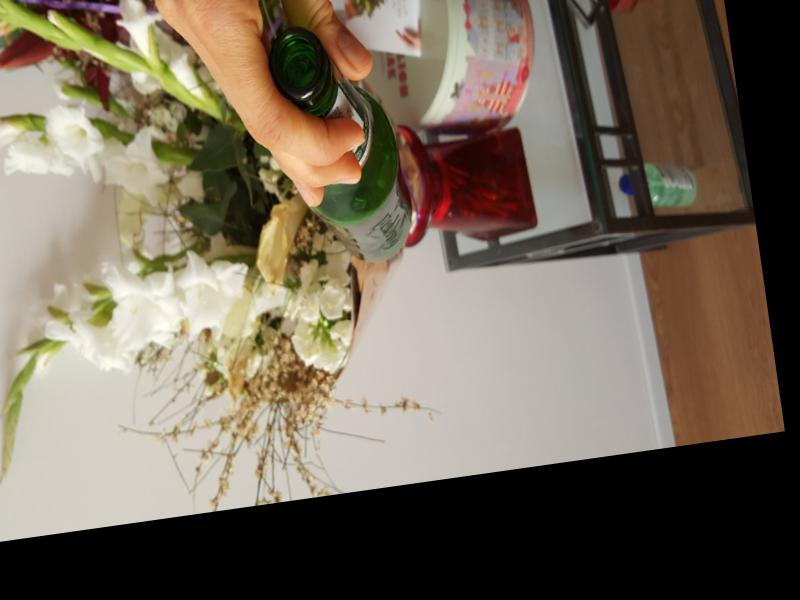Beer: (266, 15, 420, 273)
